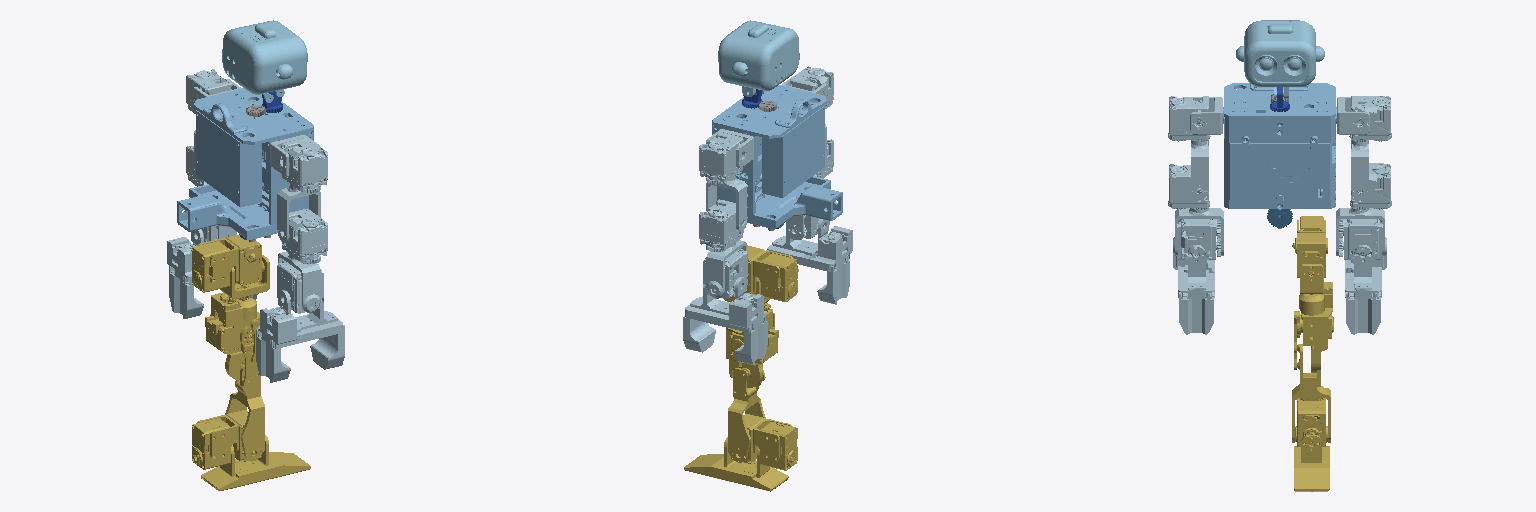
--- What the picture shows (computed from the rendered views, not written in the file) ---
Views: 3 orthographic renders of the robot side by side, from view 1: azimuth 30°, elevation 25°; view 2: azimuth 150°, elevation 25°; view 3: azimuth 270°, elevation 25°.
Model toddlerbot_2xm with 17 links and 16 joints (16 revolute), rooted at torso, posed every joint at zero.
Links seen in each view (by area): view 1: left_leg_2xm, torso, right_arm_gripper, head, left_arm_gripper; view 2: torso, left_arm_gripper, left_leg_2xm, right_arm_gripper, head; view 3: torso, left_arm_gripper, right_arm_gripper, left_leg_2xm, head.
Boxes of the visible links, <box> form: left_leg_2xm: <box>192,235,310,490</box>; torso: <box>177,88,313,239</box>; right_arm_gripper: <box>256,135,344,382</box>; head: <box>222,20,307,94</box>; left_arm_gripper: <box>167,69,257,318</box>; torso: <box>712,85,842,228</box>; left_arm_gripper: <box>683,129,767,364</box>; left_leg_2xm: <box>684,245,797,491</box>; right_arm_gripper: <box>767,66,852,304</box>; head: <box>718,20,799,96</box>; torso: <box>1223,83,1336,209</box>; left_arm_gripper: <box>1336,96,1391,334</box>; right_arm_gripper: <box>1168,96,1223,334</box>; left_leg_2xm: <box>1292,216,1333,491</box>; head: <box>1236,20,1324,98</box>.
Bounding box of the posed robot: 0.1755 × 0.2613 × 0.5694 m (x, y, z).
Meshes: 17 distinct files referenced, 15 mesh visuals loaded (15 binary STL); not drawn: 2 (reference not matched to a file when rendering).

robot.urdf — toddlerbot_2xm:
<?xml version="1.0" ?><robot name="toddlerbot_2xm">  
  <link name="torso">    
    <visual>      
      <origin xyz="0 0 0" rpy="0 -0 0"/>      
      <geometry>        
        <mesh filename="package:///meshes/torso_visual.stl"/>        
      </geometry>      
      <material name="torso_material">        
        <color rgba="0.58430211183841918032 0.75033614665161918467 0.87206890730692354641 1.0"/>        
      </material>      
    </visual>    
    <collision>      
      <origin xyz="0 0 0" rpy="0 -0 0"/>      
      <geometry>        
        <mesh filename="package:///meshes/torso_collision.stl"/>        
      </geometry>      
    </collision>    
    <inertial>      
      <origin xyz="-0.0089771536282007430296 0.0025954798665039067497 0.069461396698008895378" rpy="0 0 0"/>      
      <mass value="0.76506596310120122961"/>      
      <inertia ixx="0.0024739587695634499172" ixy="-3.13158365810029389e-05" ixz="-5.2926440215534802406e-05" iyy="0.0019649143544098156278" iyz="6.5538214354498366011e-05" izz="0.0018703366390322023749"/>      
    </inertial>    
  </link>  

  <link name="spur_1m_20t">    
    <visual>      
      <origin xyz="0 0 0" rpy="0 -0 0"/>      
      <geometry>        
        <mesh filename="package:///meshes/spur_1m_20t_visual.stl"/>        
      </geometry>      
      <material name="spur_1m_20t_material">        
        <color rgba="0.64705882352941179736 0.64705882352941179736 0.64705882352941179736 1.0"/>        
      </material>      
    </visual>    
    <collision>      
      <origin xyz="0 0 0" rpy="0 -0 0"/>      
      <geometry>        
        <mesh filename="package:///meshes/spur_1m_20t_collision.stl"/>        
      </geometry>      
    </collision>    
    <inertial>      
      <origin xyz="-3.9958123139678099615e-19 -8.3531856098436992621e-18 0.003384232105434467619" rpy="0 0 0"/>      
      <mass value="0.0015778025963745997712"/>      
      <inertia ixx="4.5874424196602078292e-08" ixy="3.1019108513555356752e-24" ixz="-7.1097175513400442172e-39" iyy="4.5874424196602058439e-08" iyz="7.8419015231486113446e-38" izz="8.1737050837173876176e-08"/>      
    </inertial>    
  </link>  

  <joint name="neck_yaw_drive" type="revolute">    
    <origin xyz="-0.0049999999999995221878 3.1860588521011854095e-18 0.12148651076281755112" rpy="1.1607298201443905188e-14 1.6509758832059179101e-15 -5.3832337592600790636e-15"/>    
    <parent link="torso"/>    
    <child link="spur_1m_20t"/>    
    <axis xyz="0 0 1"/>    
    <limit effort="1" velocity="20" lower="-2.8797932657906435416" upper="2.8797932657906435416"/>    
    <joint_properties friction="0.0"/>    
  </joint>  

  <link name="neck_yaw_link_v2">    
    <visual>      
      <origin xyz="0 0 0" rpy="0 -0 0"/>      
      <geometry>        
        <mesh filename="package:///meshes/neck_yaw_link_v2_visual.stl"/>        
      </geometry>      
      <material name="neck_yaw_link_v2_material">        
        <color rgba="0.2313725490196078538 0.38039215686274513439 0.7058823529411765163 1.0"/>        
      </material>      
    </visual>    
    <collision>      
      <origin xyz="0 0 0" rpy="0 -0 0"/>      
      <geometry>        
        <mesh filename="package:///meshes/neck_yaw_link_v2_collision.stl"/>        
      </geometry>      
    </collision>    
    <inertial>      
      <origin xyz="-1.1403990894995030566e-06 -1.1841855613142649787e-10 0.0082571849701004434302" rpy="0 0 0"/>      
      <mass value="0.0067298837334394071702"/>      
      <inertia ixx="5.2266067624765407703e-07" ixy="-6.3046400790024473369e-15" ixz="1.1949403084472483455e-09" iyy="6.121851997955396235e-07" iyz="-2.6012808712432690235e-15" izz="2.8062851709981659854e-07"/>      
    </inertial>    
  </link>  

  <link name="head">    
    <visual>      
      <origin xyz="0 0 0" rpy="0 -0 0"/>      
      <geometry>        
        <mesh filename="package:///meshes/head_visual.stl"/>        
      </geometry>      
      <material name="head_material">        
        <color rgba="0.62873939703496795062 0.7936429130509347063 0.87330110949792505437 1.0"/>        
      </material>      
    </visual>    
    <collision>      
      <origin xyz="0 0 0" rpy="0 -0 0"/>      
      <geometry>        
        <mesh filename="package:///meshes/head_collision.stl"/>        
      </geometry>      
    </collision>    
    <inertial>      
      <origin xyz="-0.045316002313821109049 -0.011276855645191815464 -0.0010251236602533209466" rpy="0 0 0"/>      
      <mass value="0.13722101760550831084"/>      
      <inertia ixx="0.00011880807294044645305" ixy="1.1390016804756297269e-06" ixz="1.8378816154938832318e-06" iyy="0.00010489076115432944571" iyz="-9.2536559812163028915e-06" izz="9.1894624061611060711e-05"/>      
    </inertial>    
  </link>  

  <link name="motor_plate">    
    <visual>      
      <origin xyz="0 0 0" rpy="0 -0 0"/>      
      <geometry>        
        <mesh filename="package:///meshes/motor_plate_visual.stl"/>        
      </geometry>      
      <material name="motor_plate_material">        
        <color rgba="0.64705882352941179736 0.64705882352941179736 0.64705882352941179736 1.0"/>        
      </material>      
    </visual>    
    <collision>      
      <origin xyz="0 0 0" rpy="0 -0 0"/>      
      <geometry>        
        <mesh filename="package:///meshes/motor_plate_collision.stl"/>        
      </geometry>      
    </collision>    
    <inertial>      
      <origin xyz="-1.3877787807814456755e-17 1.0408340855860841026e-17 -0.0028281768943845485807" rpy="0 0 0"/>      
      <mass value="0.0016999999999999996884"/>      
      <inertia ixx="4.805029073310371698e-08" ixy="1.0773753257370470989e-09" ixz="2.5688599579652610276e-36" iyy="5.1782428339099010347e-08" iyz="-7.2816377740330205339e-37" izz="9.2194729037862196389e-08"/>      
    </inertial>    
  </link>  

  <link name="bearing_683">    
    <visual>      
      <origin xyz="0 0 0" rpy="0 -0 0"/>      
      <geometry>        
        <mesh filename="package:///meshes/bearing_683_visual.stl"/>        
      </geometry>      
      <material name="bearing_683_material">        
        <color rgba="0.64705882352941179736 0.64705882352941179736 0.64705882352941179736 1.0"/>        
      </material>      
    </visual>    
    <collision>      
      <origin xyz="0 0 0" rpy="0 -0 0"/>      
      <geometry>        
        <mesh filename="package:///meshes/bearing_683_collision.stl"/>        
      </geometry>      
    </collision>    
    <inertial>      
      <origin xyz="-1.377046686486211029e-17 2.4186774283164342887e-19 -0.0015499999999999999455" rpy="0 0 0"/>      
      <mass value="0.00048694686130641793437"/>      
      <inertia ixx="2.1551456503319879113e-09" ixy="2.5851915512476533313e-25" ixz="-6.9415003913512529706e-38" iyy="2.1551456503319883249e-09" iyz="2.0853062969768179496e-37" izz="3.5303647444715305817e-09"/>      
    </inertial>    
  </link>  

  <joint name="neck_pitch_front_rev_2" type="revolute">    
    <origin xyz="-0.0019411428382688222793 -0.0072444436971680035986 -0.0054999999999999805989" rpy="-5.1957590769503590071e-16 7.0973975406608356491e-16 0.90975198639595111771"/>    
    <parent link="motor_plate"/>    
    <child link="bearing_683"/>    
    <axis xyz="0 0 1"/>    
    <limit effort="1" velocity="20" lower="-6.283185307179586232" upper="6.283185307179586232"/>    
    <joint_properties friction="0.0"/>    
  </joint>  

  <link name="bearing_683_2">    
    <visual>      
      <origin xyz="0 0 0" rpy="0 -0 0"/>      
      <geometry>        
        <mesh filename="package:///meshes/bearing_683_2_visual.stl"/>        
      </geometry>      
      <material name="bearing_683_2_material">        
        <color rgba="0.64705882352941179736 0.64705882352941179736 0.64705882352941179736 1.0"/>        
      </material>      
    </visual>    
    <collision>      
      <origin xyz="0 0 0" rpy="0 -0 0"/>      
      <geometry>        
        <mesh filename="package:///meshes/bearing_683_2_collision.stl"/>        
      </geometry>      
    </collision>    
    <inertial>      
      <origin xyz="1.0732094295237626889e-19 2.4186774283160216582e-19 -0.0015499999999999995118" rpy="0 0 0"/>      
      <mass value="0.00048694686130641793437"/>      
      <inertia ixx="2.1551456503319887385e-09" ixy="1.8251488745200396765e-26" ixz="-1.5490026867967484146e-39" iyy="2.1551456503319883249e-09" iyz="3.6026043115100660851e-40" izz="3.5303647444715322361e-09"/>      
    </inertial>    
  </link>  

  <joint name="neck_pitch_back_rev_2" type="revolute">    
    <origin xyz="0.0019411428382689610572 0.0072444436971680226806 -0.005499999999999985803" rpy="-1.8767779702219551721e-13 -1.1288623462566221499e-13 0.91260750869648277206"/>    
    <parent link="motor_plate"/>    
    <child link="bearing_683_2"/>    
    <axis xyz="0 0 1"/>    
    <limit effort="1" velocity="20" lower="-6.283185307179586232" upper="6.283185307179586232"/>    
    <joint_properties friction="0.0"/>    
  </joint>  

  <joint name="neck_pitch_act" type="revolute">    
    <origin xyz="-0.032615697718561015295 -0.026999999999999690914 0.0024999999999997845126" rpy="-3.1415926535897686911 -2.172400990893164017e-13 -3.1097313972849995878"/>    
    <parent link="head"/>    
    <child link="motor_plate"/>    
    <axis xyz="0 0 1"/>    
    <limit effort="1" velocity="20" lower="-1.3962634015954635824" upper="0.61086523819801530344"/>    
    <joint_properties friction="0.0"/>    
  </joint>  

  <joint name="neck_pitch" type="revolute">    
    <origin xyz="5.2041704279304212832e-17 0.0039999999999999775319 0.0194000000000001116" rpy="-1.5707963267949143216 1.5425174793626117431 -3.141592653589773132"/>    
    <parent link="neck_yaw_link_v2"/>    
    <child link="head"/>    
    <axis xyz="0 0 1"/>    
    <limit effort="1" velocity="20" lower="-1.3962634015954635824" upper="0.61086523819801530344"/>    
    <joint_properties friction="0.0"/>    
  </joint>  

  <link name="neck_rod">    
    <visual>      
      <origin xyz="0 0 0" rpy="0 -0 0"/>      
      <geometry>        
        <mesh filename="package:///meshes/neck_rod_visual.stl"/>        
      </geometry>      
      <material name="neck_rod_material">        
        <color rgba="0.62051618944235198416 0.78640765248647581664 0.88594253031295022716 1.0"/>        
      </material>      
    </visual>    
    <collision>      
      <origin xyz="0 0 0" rpy="0 -0 0"/>      
      <geometry>        
        <mesh filename="package:///meshes/neck_rod_collision.stl"/>        
      </geometry>      
    </collision>    
    <inertial>      
      <origin xyz="0.017901071965598931712 4.2302323074261959665e-05 -0.0016023848482647042382" rpy="0 0 0"/>      
      <mass value="0.0031629468613064179276"/>      
      <inertia ixx="1.6183187611802097473e-08" ixy="-4.3584354036308681235e-10" ixz="5.3972444229564912739e-10" iyy="7.9343818053891974154e-07" iyz="1.2754318721146128966e-12" izz="8.0487503406250116168e-07"/>      
    </inertial>    
  </link>  

  <joint name="neck_pitch_front_rev_1" type="revolute">    
    <origin xyz="-0.0072444436971680417625 -0.0040000000000000599312 0.017458857161731150542" rpy="1.5707963267945426189 -0.90616957752344262644 -3.1415926535894937999"/>    
    <parent link="neck_yaw_link_v2"/>    
    <child link="neck_rod"/>    
    <axis xyz="0 0 1"/>    
    <limit effort="1" velocity="20" lower="-6.283185307179586232" upper="6.283185307179586232"/>    
    <joint_properties friction="0.0"/>    
  </joint>  

  <link name="neck_rod_2">    
    <visual>      
      <origin xyz="0 0 0" rpy="0 -0 0"/>      
      <geometry>        
        <mesh filename="package:///meshes/neck_rod_2_visual.stl"/>        
      </geometry>      
      <material name="neck_rod_2_material">        
        <color rgba="0.62051618944235198416 0.78640765248647581664 0.88594253031295022716 1.0"/>        
      </material>      
    </visual>    
    <collision>      
      <origin xyz="0 0 0" rpy="0 -0 0"/>      
      <geometry>        
        <mesh filename="package:///meshes/neck_rod_2_collision.stl"/>        
      </geometry>      
    </collision>    
    <inertial>      
      <origin xyz="0.017942953356015384908 -4.2302323074262413675e-05 -0.0016023848482718246276" rpy="0 0 0"/>      
      <mass value="0.0031629468613064179276"/>      
      <inertia ixx="1.6183187611802580547e-08" ixy="4.3686324094345629304e-10" ixz="5.4098718295409539865e-10" iyy="7.9430220338142222792e-07" iyz="-1.2754318724161339624e-12" izz="8.0573905690500205987e-07"/>      
    </inertial>    
  </link>  

  <joint name="neck_pitch_back_rev_1" type="revolute">    
    <origin xyz="0.0072444436971680417625 -0.0040000000000000339104 0.021341142838269072657" rpy="1.5707963267948958919 -0.9090250998239748359 3.1415926535897904515"/>    
    <parent link="neck_yaw_link_v2"/>    
    <child link="neck_rod_2"/>    
    <axis xyz="0 0 1"/>    
    <limit effort="1" velocity="20" lower="-6.283185307179586232" upper="6.283185307179586232"/>    
    <joint_properties friction="0.0"/>    
  </joint>  

  <joint name="neck_yaw_driven" type="revolute">    
    <origin xyz="0.016000000000000624834 3.2103613134323069307e-17 0.12248651076281735772" rpy="-1.2490009034196296056e-15 7.5678714822898148914e-15 -8.6007558735577479982e-16"/>    
    <parent link="torso"/>    
    <child link="neck_yaw_link_v2"/>    
    <axis xyz="0 0 1"/>    
    <limit effort="1" velocity="20" lower="-2.6179938779914944114" upper="2.6179938779914944114"/>    
    <joint_properties friction="0.0"/>    
  </joint>  

  <link name="waist_gears">    
    <visual>      
      <origin xyz="0 0 0" rpy="0 -0 0"/>      
      <geometry>        
        <mesh filename="package:///meshes/waist_gears_visual.stl"/>        
      </geometry>      
      <material name="waist_gears_material">        
        <color rgba="0.29673072126509869584 0.50090014891145351328 0.633160425035579566 1.0"/>        
      </material>      
    </visual>    
    <collision>      
      <origin xyz="0 0 0" rpy="0 -0 0"/>      
      <geometry>        
        <mesh filename="package:///meshes/waist_gears_collision.stl"/>        
      </geometry>      
    </collision>    
    <inertial>      
      <origin xyz="-2.9089024311039519452e-07 5.5035553748503828604e-08 -0.012592985430860507978" rpy="0 0 0"/>      
      <mass value="0.026337180140419177987"/>      
      <inertia ixx="1.5367047941033410526e-06" ixy="1.8828487082747051516e-11" ixz="4.0600521957525664523e-10" iyy="7.3024712275450647349e-06" iyz="3.2911737857335293121e-12" izz="6.9859065635059603986e-06"/>      
    </inertial>    
  </link>  

  <link name="pelvis_link">    
    <visual>      
      <origin xyz="0 0 0" rpy="0 -0 0"/>      
      <geometry>        
        <mesh filename="package:///meshes/pelvis_link_visual.stl"/>        
      </geometry>      
      <material name="pelvis_link_material">        
        <color rgba="0.64205964988973107666 0.7711287811580390672 0.80455743168009175026 1.0"/>        
      </material>      
    </visual>    
    <collision>      
      <origin xyz="0 0 0" rpy="0 -0 0"/>      
      <geometry>        
        <mesh filename="package:///meshes/pelvis_link_collision.stl"/>        
      </geometry>      
    </collision>    
    <inertial>      
      <origin xyz="-6.1578321615923423822e-17 -0.026032561888413158213 -0.02319724977571635538" rpy="0 0 0"/>      
      <mass value="0.10819999998618366754"/>      
      <inertia ixx="4.7071238246534341499e-05" ixy="-9.0595715818951526549e-20" ixz="-5.6250773233159001356e-09" iyy="9.6814924554186260262e-05" iyz="5.2104858833105037041e-07" izz="7.2108884823996998174e-05"/>      
    </inertial>    
  </link>  

  <link name="spiral_bevel_1m_14t_30deg">    
    <visual>      
      <origin xyz="0 0 0" rpy="0 -0 0"/>      
      <geometry>        
        <mesh filename="package:///meshes/spiral_bevel_1m_14t_30deg_visual.stl"/>        
      </geometry>      
      <material name="spiral_bevel_1m_14t_30deg_material">        
        <color rgba="0.64705882352941179736 0.64705882352941179736 0.64705882352941179736 1.0"/>        
      </material>      
    </visual>    
    <collision>      
      <origin xyz="0 0 0" rpy="0 -0 0"/>      
      <geometry>        
        <mesh filename="package:///meshes/spiral_bevel_1m_14t_30deg_collision.stl"/>        
      </geometry>      
    </collision>    
    <inertial>      
      <origin xyz="7.4971447279470481499e-10 7.1802237506385358719e-10 0.006686895501897913846" rpy="0 0 0"/>      
      <mass value="0.00073261524436595492574"/>      
      <inertia ixx="1.3495056019478196665e-08" ixy="4.0596681291792787018e-17" ixz="8.599255015702218872e-16" iyy="1.3495056150237195634e-08" iyz="-6.7913008245448690494e-16" izz="1.43559865498164051e-08"/>      
    </inertial>    
  </link>  

  <joint name="waist_act_1" type="revolute">    
    <origin xyz="3.7125771266094977152e-17 -0.019600000000000020184 -0.012750000000000000916" rpy="1.570796326794896558 2.7529416277864663811e-15 -3.1415926535897913396"/>    
    <parent link="pelvis_link"/>    
    <child link="spiral_bevel_1m_14t_30deg"/>    
    <axis xyz="0 0 1"/>    
    <limit effort="1" velocity="20" lower="-4.6774823953448034786" upper="4.6774823953448034786"/>    
    <joint_properties friction="0.0"/>    
  </joint>  

  <link name="spiral_bevel_1m_14t_30deg_2">    
    <visual>      
      <origin xyz="0 0 0" rpy="0 -0 0"/>      
      <geometry>        
        <mesh filename="package:///meshes/spiral_bevel_1m_14t_30deg_2_visual.stl"/>        
      </geometry>      
      <material name="spiral_bevel_1m_14t_30deg_2_material">        
        <color rgba="0.64705882352941179736 0.64705882352941179736 0.64705882352941179736 1.0"/>        
      </material>      
    </visual>    
    <collision>      
      <origin xyz="0 0 0" rpy="0 -0 0"/>      
      <geometry>        
        <mesh filename="package:///meshes/spiral_bevel_1m_14t_30deg_2_collision.stl"/>        
      </geometry>      
    </collision>    
    <inertial>      
      <origin xyz="3.6393116818744802484e-10 -9.7220472297654403349e-10 -0.0066868955018979207849" rpy="0 0 0"/>      
      <mass value="0.00073261524436595492574"/>      
      <inertia ixx="1.3495056012354477525e-08" ixy="2.5804136222378210375e-17" ixz="-1.0694296051663920415e-15" iyy="1.3495056157360908156e-08" iyz="-2.3876736954310903269e-16" izz="1.43559865498164051e-08"/>      
    </inertial>    
  </link>  

  <joint name="waist_act_2" type="revolute">    
    <origin xyz="8.2006622604210144818e-18 -0.019599999999999999367 -0.032750000000000001332" rpy="-1.570796326794896558 -5.4984382998055662717e-16 -3.1415926535897922278"/>    
    <parent link="pelvis_link"/>    
    <child link="spiral_bevel_1m_14t_30deg_2"/>    
    <axis xyz="0 0 1"/>    
    <limit effort="1" velocity="20" lower="-4.6774823953448034786" upper="4.6774823953448034786"/>    
    <joint_properties friction="0.0"/>    
  </joint>  

  <link name="left_leg_2xm">    
    <visual>      
      <origin xyz="0 0 0" rpy="0 -0 0"/>      
      <geometry>        
        <mesh filename="package:///meshes/left_leg_2xm_visual.stl"/>        
      </geometry>      
      <material name="left_leg_2xm_material">        
        <color rgba="0.78524969219942852838 0.71259680610300102366 0.38865061638690850954 1.0"/>        
      </material>      
    </visual>    
    <collision>      
      <origin xyz="0 0 0" rpy="0 -0 0"/>      
      <geometry>        
        <mesh filename="package:///meshes/left_leg_2xm_collision.stl"/>        
      </geometry>      
    </collision>    
    <inertial>      
      <origin xyz="-0.12316117709748726494 0.01247510044552024161 -0.019987412321680508159" rpy="0 0 0"/>      
      <mass value="0.61928539659763104375"/>      
      <inertia ixx="0.0003795108895197398793" ixy="-0.00022216762381225489253" ixz="1.9846818261953789103e-05" iyy="0.0059103851327083969935" iyz="1.847809914299502042e-06" izz="0.0061564047720288027354"/>      
    </inertial>    
  </link>  

  <joint name="left_hip_pitch" type="revolute">    
    <origin xyz="0.018000000000000015987 -0.048100000000000003864 -0.022750000000000006328" rpy="-1.570796326794896558 1.6504994128029653493e-13 1.570796326794901443"/>    
    <parent link="pelvis_link"/>    
    <child link="left_leg_2xm"/>    
    <axis xyz="0 0 1"/>    
    <limit effort="1" velocity="20" lower="-0.785398163397448279" upper="2.356194490192344837"/>    
    <joint_properties friction="0.0"/>    
  </joint>  

  <link name="right_leg_2xm">    
    <visual>      
      <origin xyz="0 0 0" rpy="0 -0 0"/>      
      <geometry>        
        <mesh filename="package:///meshes/right_leg_2xm_visual.stl"/>        
      </geometry>      
      <material name="right_leg_2xm_material">        
        <color rgba="0.78620360689973689539 0.71203891620736625701 0.38560845071364219239 1.0"/>        
      </material>      
    </visual>    
    <collision>      
      <origin xyz="0 0 0" rpy="0 -0 0"/>      
      <geometry>        
        <mesh filename="package:///meshes/right_leg_2xm_collision.stl"/>        
      </geometry>      
    </collision>    
    <inertial>      
      <origin xyz="-0.1232678295311075839 -0.012551706258802442298 -0.01988988491713264764" rpy="0 0 0"/>      
      <mass value="0.61582096611879943993"/>      
      <inertia ixx="0.00037788935266502274085" ixy="0.00022298569276832003899" ixz="2.0961742937191602866e-05" iyy="0.0059063643624779676652" iyz="-1.9393375697642236409e-06" izz="0.0061513647595038741661"/>      
    </inertial>    
  </link>  

  <joint name="right_hip_pitch" type="revolute">    
    <origin xyz="-0.018000000000000012518 -0.048100000000000017741 -0.022750000000000002859" rpy="1.570796326794896558 1.5655006806055883195e-13 1.570796326794896336"/>    
    <parent link="pelvis_link"/>    
    <child link="right_leg_2xm"/>    
    <axis xyz="0 0 1"/>    
    <limit effort="1" velocity="20" lower="-2.356194490192344837" upper="0.785398163397448279"/>    
    <joint_properties friction="0.0"/>    
  </joint>  

  <joint name="waist_roll" type="revolute">    
    <origin xyz="-0.022707865260687083719 -1.1505205732202515009e-18 -0.014000000000000000291" rpy="1.5707963267948970021 -3.0586650082910413294e-14 -1.57079632679489678"/>    
    <parent link="waist_gears"/>    
    <child link="pelvis_link"/>    
    <axis xyz="0 0 1"/>    
    <limit effort="1" velocity="20" lower="-0.52359877559829881566" upper="0.52359877559829881566"/>    
    <joint_properties friction="0.0"/>    
  </joint>  

  <joint name="waist_yaw" type="revolute">    
    <origin xyz="-2.7755575615628913511e-17 -1.0995740381784306341e-19 1.4125540584113742641e-29" rpy="-2.4607930332406853109e-24 -4.0763901438054436429e-15 3.1415926535897922278"/>    
    <parent link="torso"/>    
    <child link="waist_gears"/>    
    <axis xyz="0 0 1"/>    
    <limit effort="1" velocity="20" lower="-1.570796326794896558" upper="1.570796326794896558"/>    
    <joint_properties friction="0.0"/>    
  </joint>  

  <link name="left_arm_gripper">    
    <visual>      
      <origin xyz="0 0 0" rpy="0 -0 0"/>      
      <geometry>        
        <mesh filename="package:///meshes/left_arm_gripper_visual.stl"/>        
      </geometry>      
      <material name="left_arm_gripper_material">        
        <color rgba="0.71478780303500433213 0.81796287183937133047 0.87230604980696357931 1.0"/>        
      </material>      
    </visual>    
    <collision>      
      <origin xyz="0 0 0" rpy="0 -0 0"/>      
      <geometry>        
        <mesh filename="package:///meshes/left_arm_gripper_collision.stl"/>        
      </geometry>      
    </collision>    
    <inertial>      
      <origin xyz="-0.0019746660314458844461 0.10961690937566306858 0.033693595823326781546" rpy="0 0 0"/>      
      <mass value="0.52042116458808640456"/>      
      <inertia ixx="0.0032090979623879386032" ixy="7.0016525414489980236e-05" ixz="5.0757619213528510597e-06" iyy="0.00025067863698937531023" iyz="0.00010642875963191576511" izz="0.003252157026714512858"/>      
    </inertial>    
  </link>  

  <joint name="left_sho_pitch" type="revolute">    
    <origin xyz="-0.003500000000000471484 0.067000000000001072586 0.10423651076281729988" rpy="-1.5707963267949092145 -4.1300296516055854858e-14 3.4824310043944882416e-14"/>    
    <parent link="torso"/>    
    <child link="left_arm_gripper"/>    
    <axis xyz="0 0 1"/>    
    <limit effort="1" velocity="20" lower="-3.141592653589793116" upper="1.570796326794896558"/>    
    <joint_properties friction="0.0"/>    
  </joint>  

  <link name="right_arm_gripper">    
    <visual>      
      <origin xyz="0 0 0" rpy="0 -0 0"/>      
      <geometry>        
        <mesh filename="package:///meshes/right_arm_gripper_visual.stl"/>        
      </geometry>      
      <material name="right_arm_gripper_material">        
        <color rgba="0.71479482658733572986 0.81796331111759046362 0.87230200259414070185 1.0"/>        
      </material>      
    </visual>    
    <collision>      
      <origin xyz="0 0 0" rpy="0 -0 0"/>      
      <geometry>        
        <mesh filename="package:///meshes/right_arm_gripper_collision.stl"/>        
      </geometry>      
    </collision>    
    <inertial>      
      <origin xyz="0.0017712351941311598423 0.1096101744880519091 0.03370090983470028223" rpy="0 0 0"/>      
      <mass value="0.52038428376188927693"/>      
      <inertia ixx="0.0032087290575018453075" ixy="-9.111242978704136913e-05" ixz="-4.8484413847352807287e-06" iyy="0.0002510228998082267857" iyz="0.00010606947926776428637" izz="0.0032521981416193286585"/>      
    </inertial>    
  </link>  

  <joint name="right_sho_pitch" type="revolute">    
    <origin xyz="-0.003499999999998689923 -0.067000000000001017075 0.10423651076281729988" rpy="-1.5707963267948874542 3.1641356201815939038e-14 -3.1415926535897420457"/>    
    <parent link="torso"/>    
    <child link="right_arm_gripper"/>    
    <axis xyz="0 0 1"/>    
    <limit effort="1" velocity="20" lower="-1.570796326794896558" upper="3.141592653589793116"/>    
    <joint_properties friction="0.0"/>    
  </joint>  


</robot>
